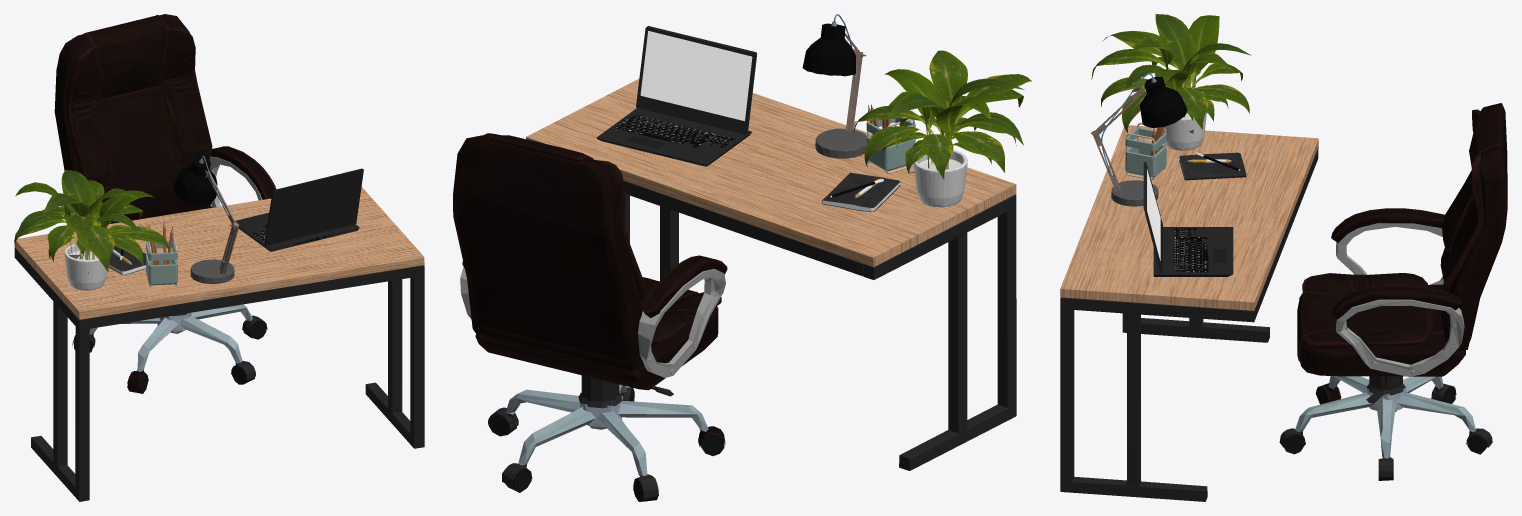
The model's file is desk_tk.glb.
3 renders of one model, left to right at view 1: azimuth 30°, elevation 25°; view 2: azimuth 150°, elevation 25°; view 3: azimuth 270°, elevation 25°, orthographic. The views are drawn at different scales.
Visible parts, largest first — view 1: desk_joined, chair, screen, keyboard; view 2: desk_joined, chair, screen, keyboard; view 3: desk_joined, chair, keyboard, screen.
Boxes of the visible parts, x1=… form: desk_joined: x1=14, y1=156, x2=424, y2=501; chair: x1=54, y1=14, x2=276, y2=393; screen: x1=264, y1=168, x2=363, y2=245; keyboard: x1=235, y1=212, x2=359, y2=251; desk_joined: x1=526, y1=14, x2=1031, y2=470; chair: x1=453, y1=133, x2=727, y2=501; screen: x1=636, y1=26, x2=756, y2=134; keyboard: x1=596, y1=108, x2=751, y2=166; desk_joined: x1=1060, y1=14, x2=1318, y2=501; chair: x1=1279, y1=103, x2=1507, y2=480; keyboard: x1=1153, y1=227, x2=1233, y2=276; screen: x1=1143, y1=162, x2=1162, y2=273.
Size of the model in its own units: 1.5 by 1.16 by 1.44.
27 materials, 14 textured.
